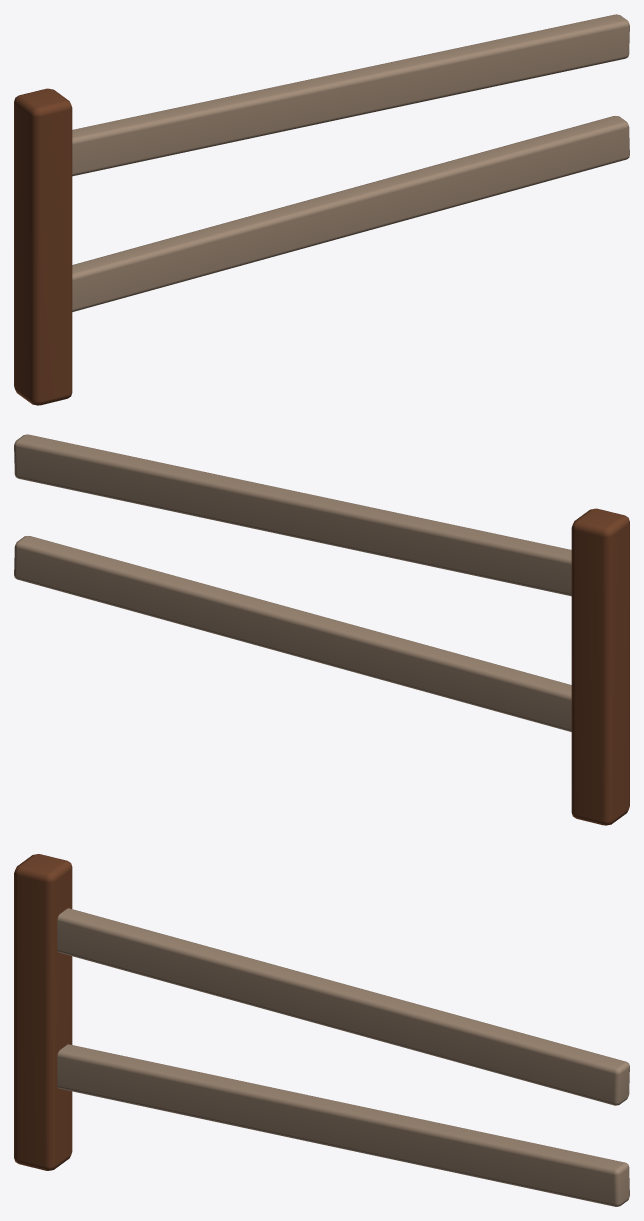
The model's file is gulch_fence.glb.
3 views of the same model, one above another, from view 1: azimuth 30°, elevation 25°; view 2: azimuth 150°, elevation 25°; view 3: azimuth 330°, elevation 25° (orthographic).
Parts seen in each view (by area): view 1: Fence; view 2: Fence; view 3: Fence.
Part boxes in pixels (left/top/right/bottom): Fence: left=14, top=14, right=629, bottom=405; Fence: left=14, top=434, right=629, bottom=825; Fence: left=14, top=854, right=629, bottom=1206.
Size of the model in its own units: 2.64 by 1.25 by 0.18.
